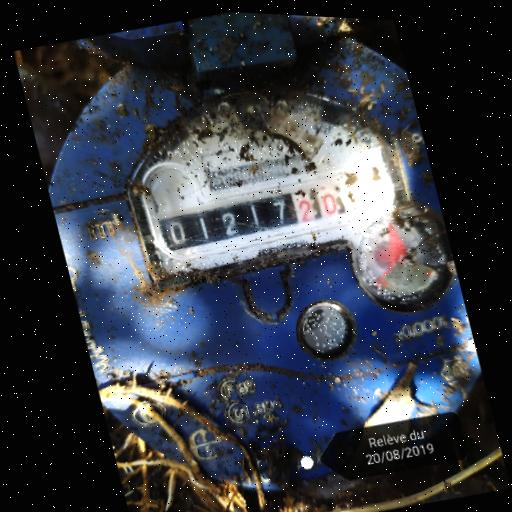0: (161, 213, 192, 251), (313, 183, 342, 219)
1: (188, 209, 219, 246), (241, 198, 268, 234)
2: (213, 202, 246, 241), (289, 187, 320, 225)
7: (265, 192, 293, 228)
border_water_meter_number: (145, 158, 371, 277)
